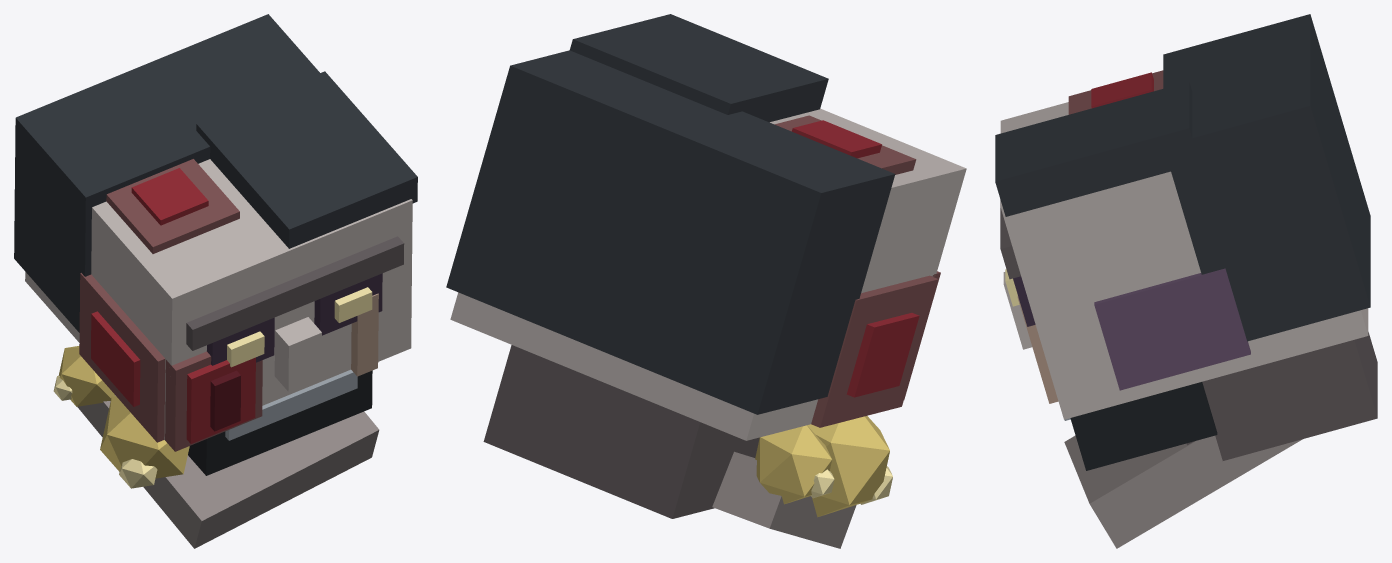
The model's file is inf_v2_walker_head.fbx.
The picture shows the model from 3 angles, left to right: view 1: azimuth 30°, elevation 25°; view 2: azimuth 150°, elevation 25°; view 3: azimuth 270°, elevation 25°; orthographic projection. The views are drawn at different scales.
Visible parts, largest first — view 1: inf_v2_walker_head; view 2: inf_v2_walker_head; view 3: inf_v2_walker_head.
Part boxes in pixels (x1=…): inf_v2_walker_head: x1=14, y1=14, x2=417, y2=548; inf_v2_walker_head: x1=446, y1=14, x2=966, y2=548; inf_v2_walker_head: x1=995, y1=14, x2=1377, y2=548.
Size of the model in its own units: 138 by 192 by 140.
